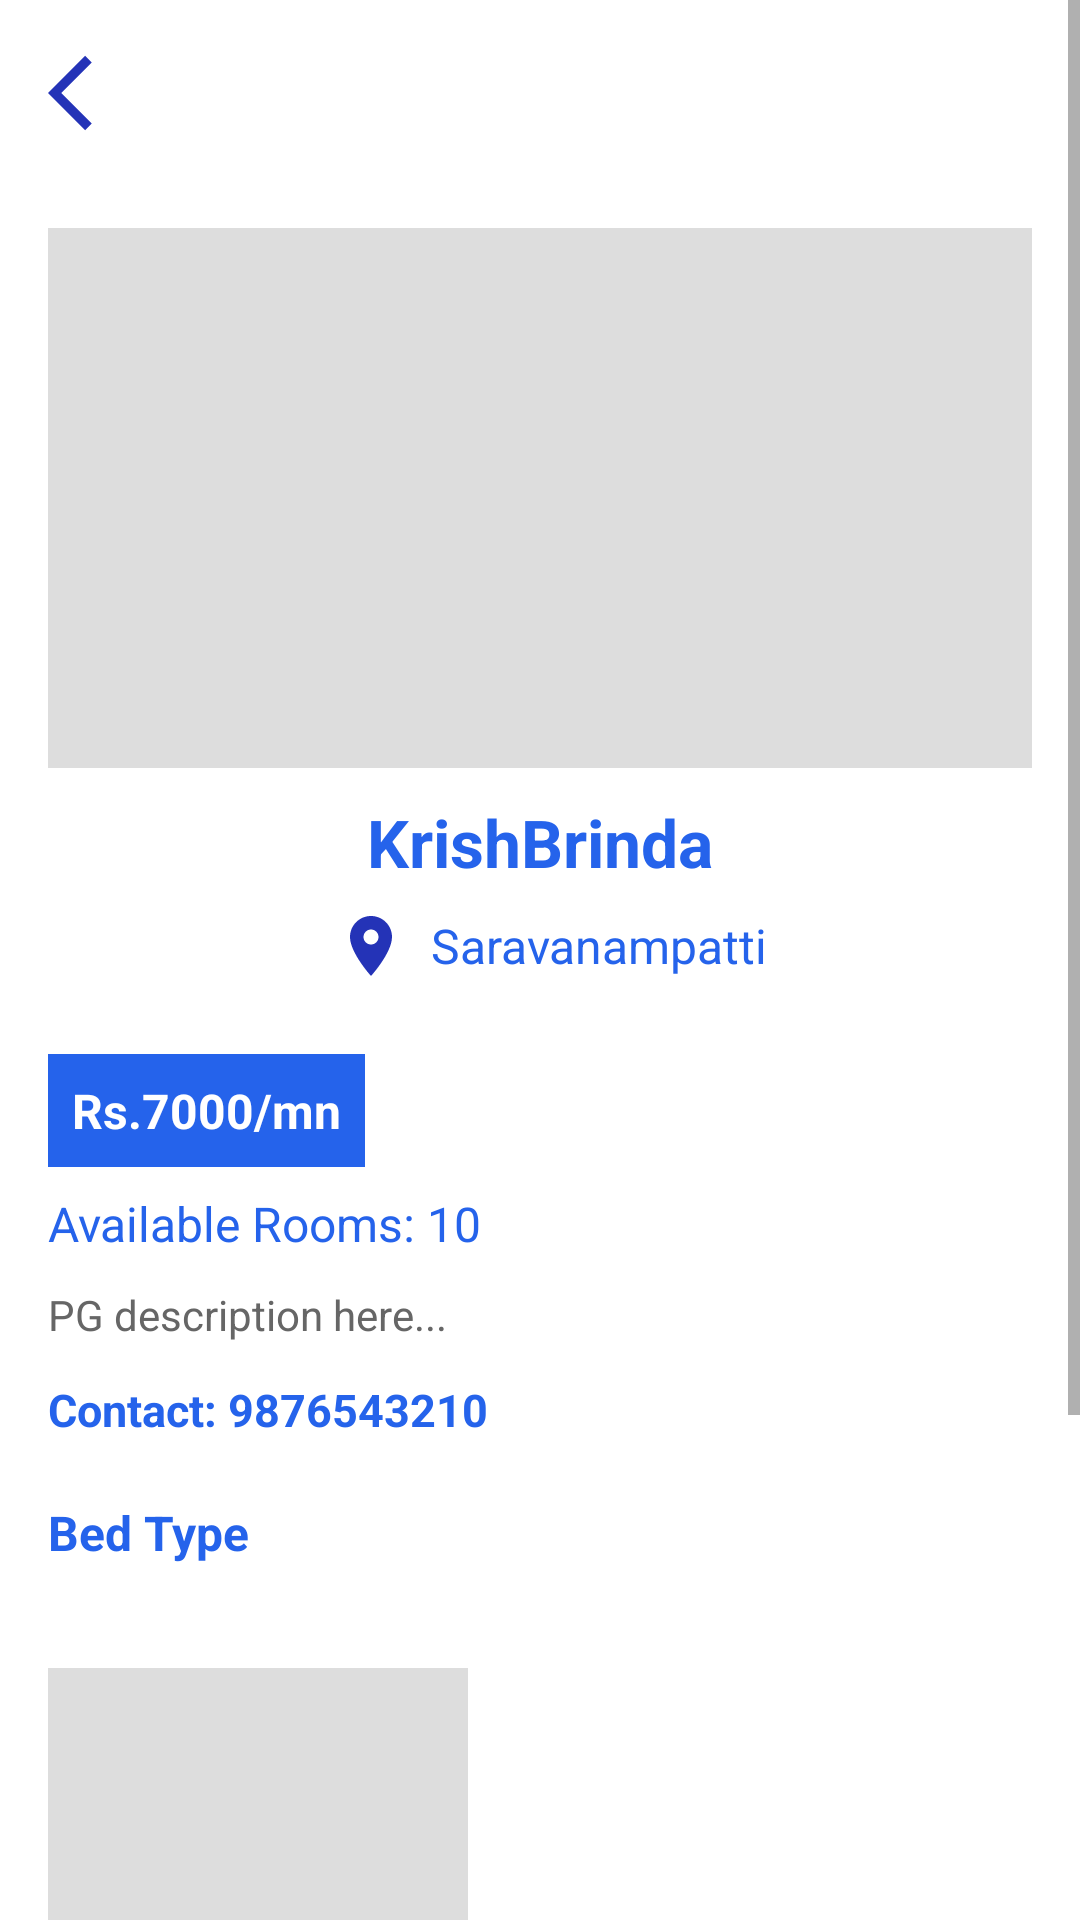

Icon bounding boxes for this 1080*1920 phone screenshot, format (x1, y1, x2, y2):
arrow back: (48, 56, 92, 130)
Location Icon: (350, 916, 392, 976)
